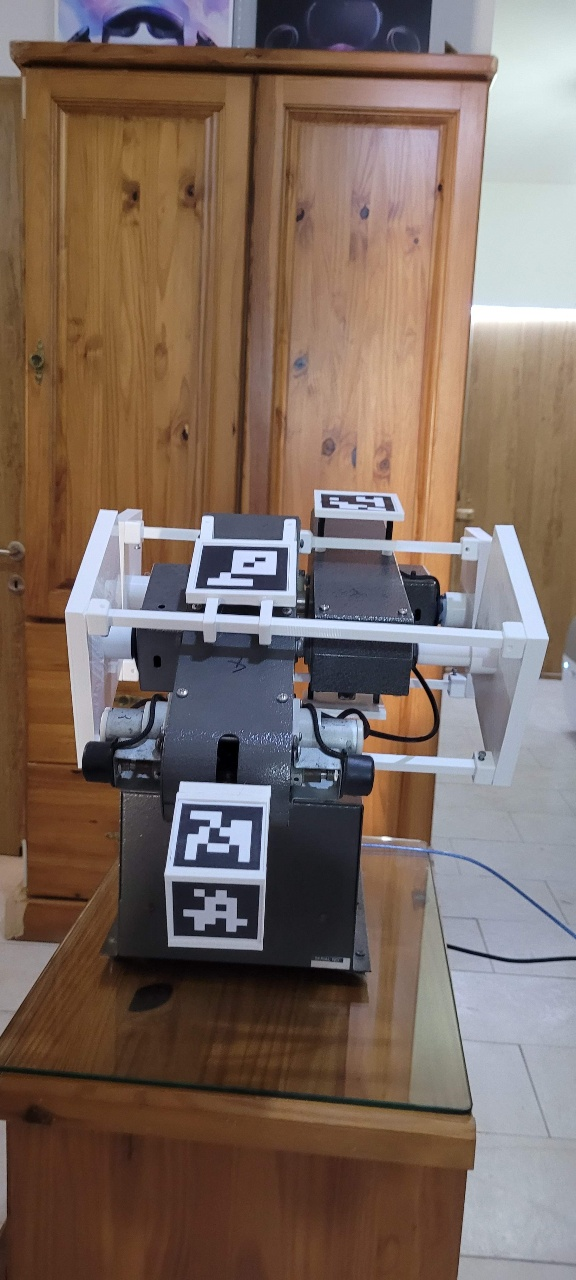Robot: (1, 123, 542, 1280)
